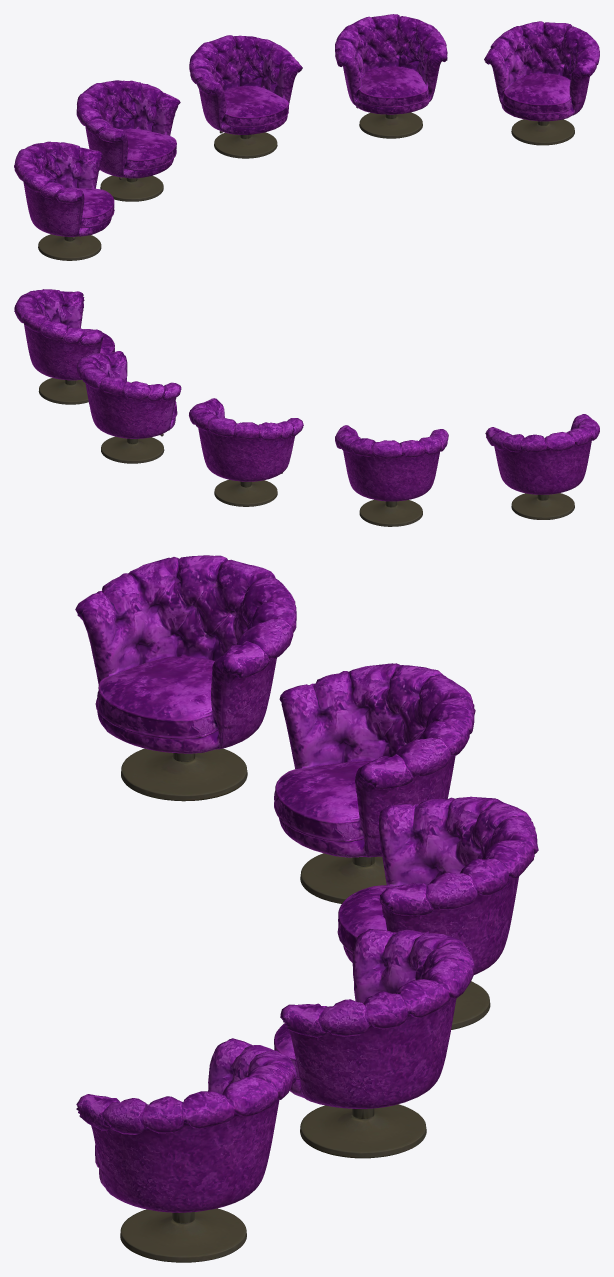
The model's file is plugin-mvms84uv-yukn.glb.
The picture shows the model from 3 angles, top to bottom: view 1: azimuth 30°, elevation 25°; view 2: azimuth 150°, elevation 25°; view 3: azimuth 270°, elevation 25°; orthographic projection. The views are drawn at different scales.
Visible parts, largest first — view 1: tripo_node_916a6ac7-689d-490c-bc5c-f000f37089ee (×5); view 2: tripo_node_916a6ac7-689d-490c-bc5c-f000f37089ee (×5); view 3: tripo_node_916a6ac7-689d-490c-bc5c-f000f37089ee (×5).
Part boxes in pixels (x1=…): tripo_node_916a6ac7-689d-490c-bc5c-f000f37089ee (×5): x1=14, y1=14, x2=599, y2=260; tripo_node_916a6ac7-689d-490c-bc5c-f000f37089ee (×5): x1=14, y1=289, x2=599, y2=526; tripo_node_916a6ac7-689d-490c-bc5c-f000f37089ee (×5): x1=75, y1=555, x2=538, y2=1262.
Size of the model in its own units: 4.59 by 0.6954 by 1.62.
Materials: 1 (1 with a texture image).
